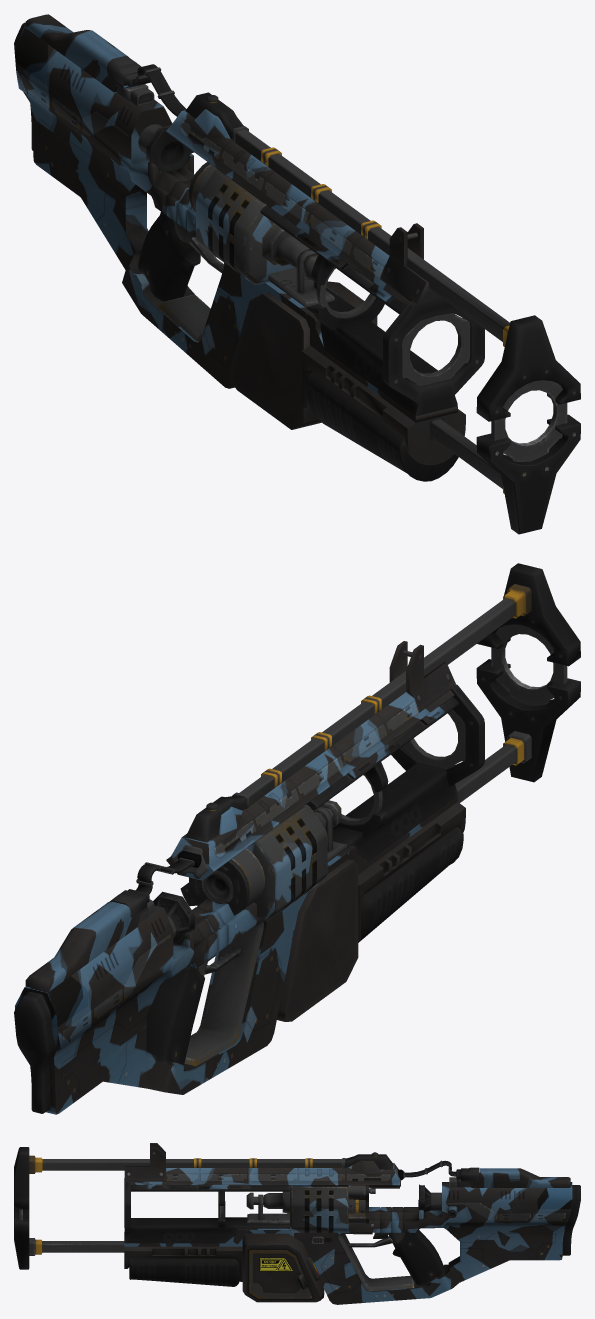
Rendered from Weapon_ArcBeam01.dae.
3 views of the same model, one above another, from view 1: azimuth 30°, elevation 25°; view 2: azimuth 150°, elevation 25°; view 3: azimuth 270°, elevation 25° (orthographic). The views are drawn at different scales.
Visible parts, largest first — view 1: Arcbeam; view 2: Arcbeam; view 3: Arcbeam.
Part boxes in pixels (x1=…): Arcbeam: x1=14, y1=14, x2=580, y2=534; Arcbeam: x1=14, y1=563, x2=580, y2=1114; Arcbeam: x1=14, y1=1143, x2=580, y2=1304.
Bounding box in the file's own units: 0.1441 × 0.3526 × 1.18.
1 material, 1 textured.
